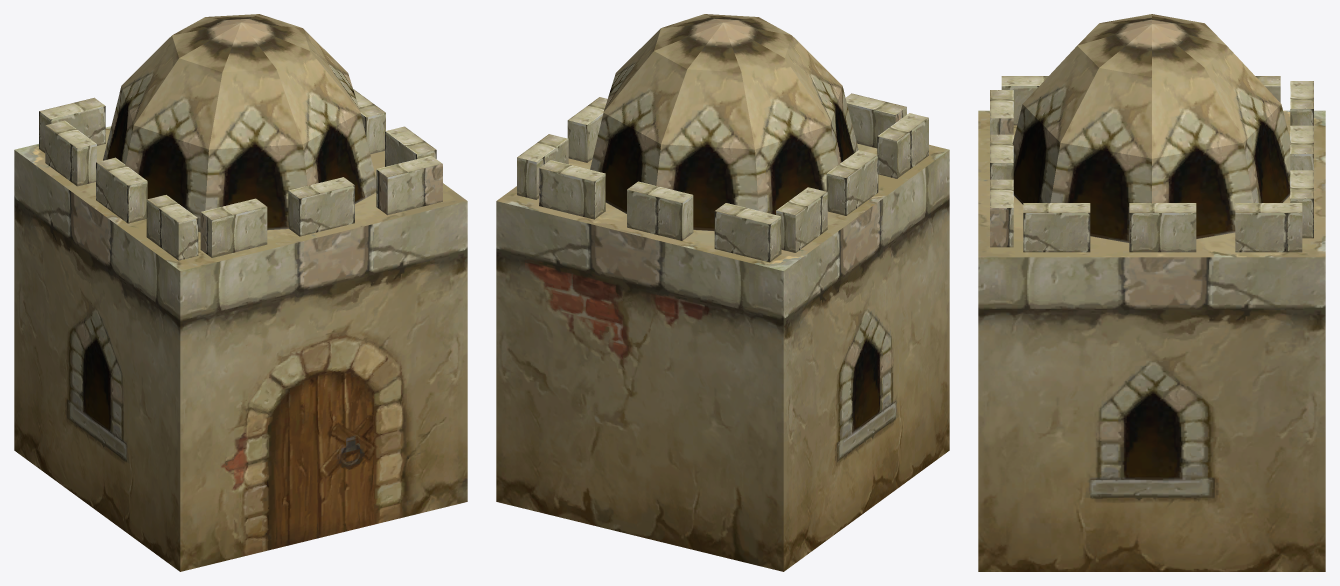
Rendered from shamo_fangzi_5.fbx.
3 views of the same model, side by side, from view 1: azimuth 30°, elevation 25°; view 2: azimuth 150°, elevation 25°; view 3: azimuth 270°, elevation 25° (orthographic). The views are drawn at different scales.
Visible parts, largest first — view 1: polySurface128, polySurface141, polySurface131, polySurface129, polySurface130, polySurface138, polySurface140, polySurface139, polySurface135, polySurface134, polySurface133; view 2: polySurface128, polySurface141, polySurface135, polySurface137, polySurface136, polySurface139, polySurface138, polySurface140, polySurface131, polySurface132, polySurface133; view 3: polySurface128, polySurface141, polySurface132, polySurface133, polySurface134, polySurface129, polySurface137, polySurface130, polySurface136, polySurface131, polySurface135, polySurface138.
Part boxes in pixels (x1,y1,x2,y2): polySurface128: (14, 126, 467, 571); polySurface141: (103, 14, 376, 232); polySurface131: (200, 198, 267, 257); polySurface129: (376, 155, 442, 215); polySurface130: (288, 177, 354, 236); polySurface138: (146, 195, 198, 260); polySurface140: (45, 120, 96, 186); polySurface139: (96, 157, 147, 223); polySurface135: (39, 97, 105, 152); polySurface134: (385, 126, 436, 166); polySurface133: (353, 89, 385, 154); polySurface128: (496, 143, 949, 571); polySurface141: (590, 14, 858, 231); polySurface135: (714, 203, 781, 262); polySurface137: (539, 160, 605, 219); polySurface136: (627, 181, 693, 240); polySurface139: (826, 150, 878, 215); polySurface138: (877, 113, 928, 178); polySurface140: (776, 187, 827, 252); polySurface131: (845, 93, 906, 148); polySurface132: (517, 134, 568, 199); polySurface133: (567, 97, 607, 162); polySurface128: (978, 110, 1325, 571); polySurface141: (1012, 14, 1291, 242); polySurface132: (1235, 203, 1302, 252); polySurface133: (1129, 203, 1196, 252); polySurface134: (1023, 203, 1090, 252); polySurface129: (990, 179, 1013, 247); polySurface137: (1290, 170, 1313, 238); polySurface130: (990, 134, 1013, 179); polySurface136: (1290, 125, 1313, 170); polySurface131: (990, 90, 1013, 134); polySurface135: (1290, 81, 1313, 125); polySurface138: (1001, 76, 1048, 125).
Size of the model in its own units: 5.89 by 8.89 by 5.89.
